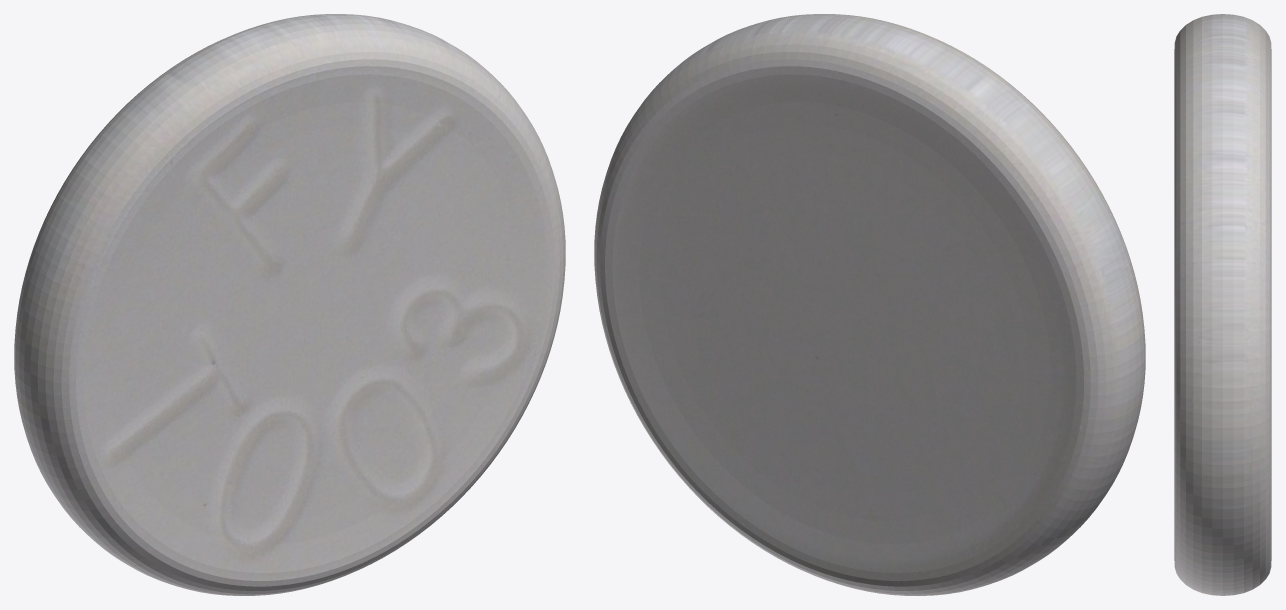
File: 20180307GOPHDRGPT23830.fbx
3 views of the same model, side by side, from view 1: azimuth 30°, elevation 25°; view 2: azimuth 150°, elevation 25°; view 3: azimuth 270°, elevation 25° (orthographic). The views are drawn at different scales.
Visible parts, largest first — view 1: Circle; view 2: Circle; view 3: Circle.
Part boxes in pixels (x1,y1,x2,y2): Circle: [14, 14, 565, 595]; Circle: [594, 14, 1145, 595]; Circle: [1174, 14, 1271, 595].
Size of the model in its own units: 20.23 by 20.23 by 3.38.
1 material, 1 textured.
